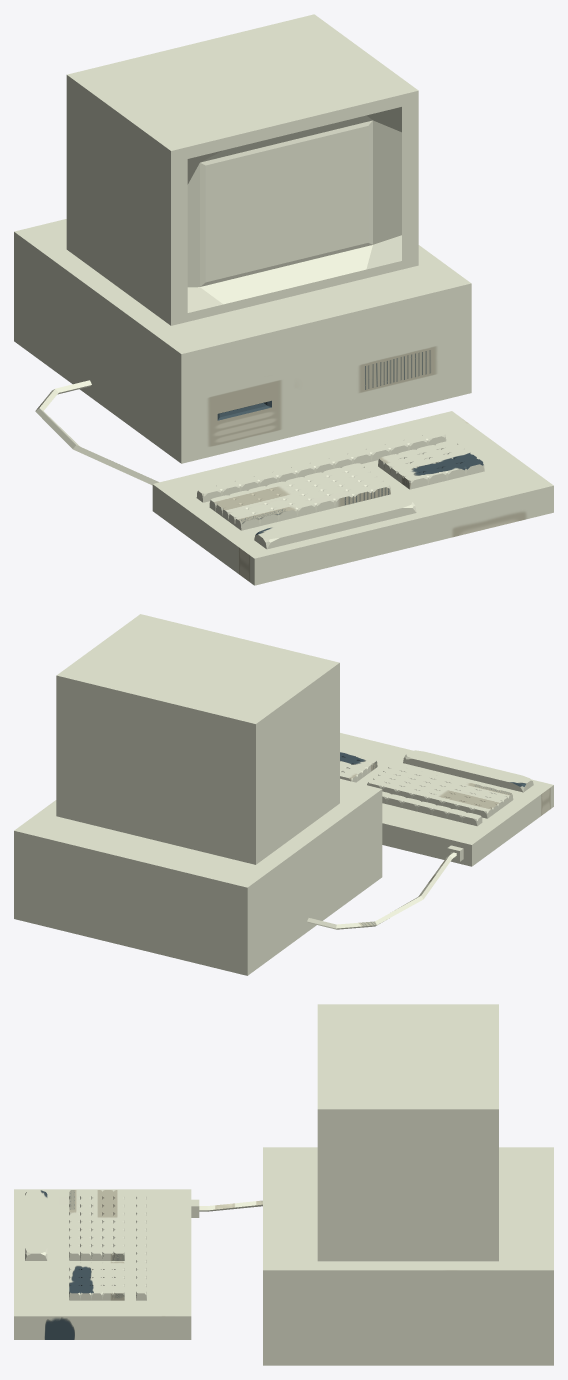
Rendered from Computer.fbx.
3 views of the same model, one above another, from view 1: azimuth 30°, elevation 25°; view 2: azimuth 150°, elevation 25°; view 3: azimuth 270°, elevation 25° (orthographic). The views are drawn at different scales.
Parts seen in each view (by area): view 1: monitor, computer, keyboard; view 2: monitor, computer, keyboard; view 3: monitor, computer, keyboard.
Boxes of the visible parts, x1,y1,x2,y2 form: monitor: (66, 14, 418, 325); computer: (14, 219, 471, 463); keyboard: (35, 380, 553, 585); monitor: (56, 614, 339, 864); computer: (14, 778, 382, 975); keyboard: (307, 733, 553, 929); monitor: (317, 1004, 498, 1261); computer: (263, 1147, 553, 1365); keyboard: (14, 1189, 262, 1339).
Size of the model in its own units: 231 by 169 by 335.
3 materials, 3 textured.
